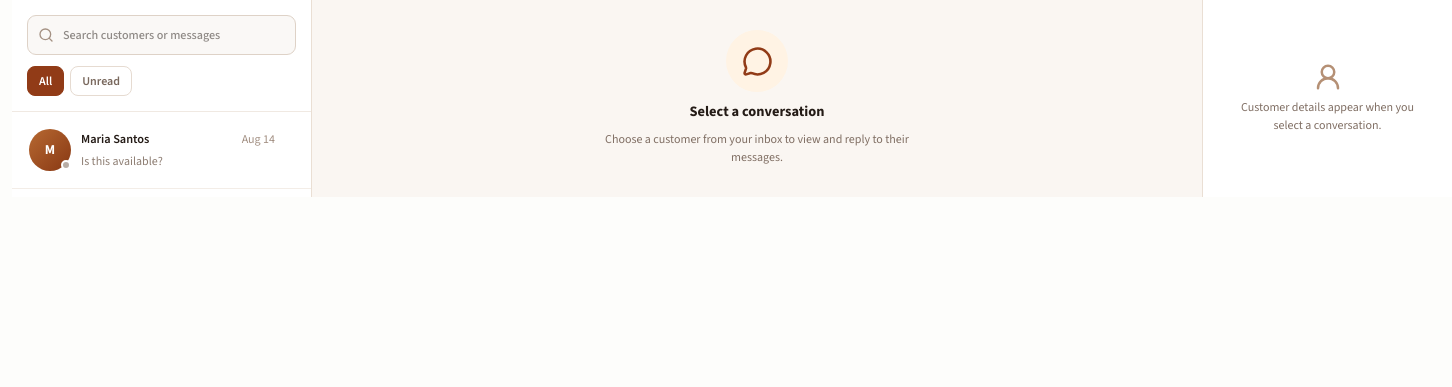
SellerMessages buyer identity › refreshes a renamed buyer through Broadcast and keeps the conversation open
This screenshot has width=1452, height=387.
Click the button "M Maria Santos Aug 14 Is this available?" at (162, 150), box [12,112,311,188]
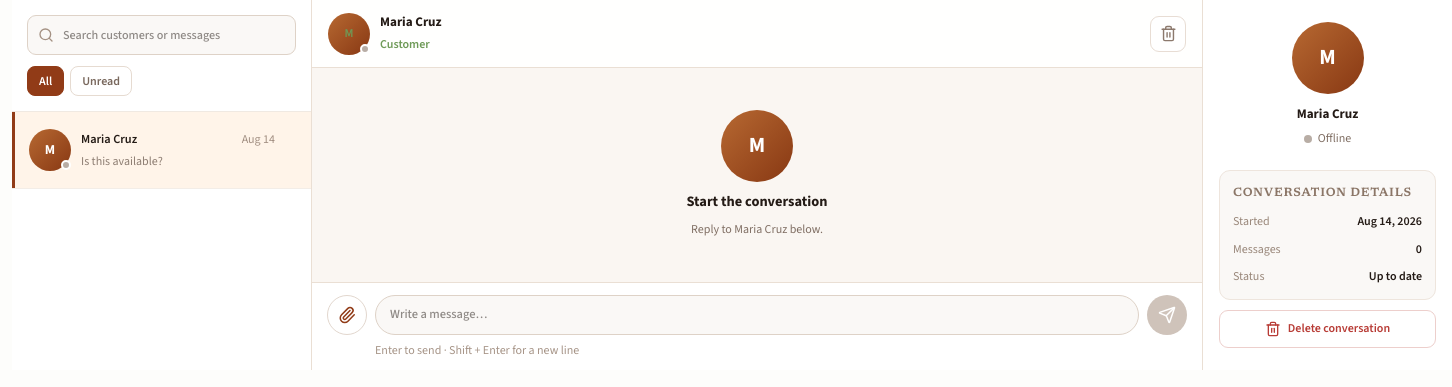
Check: the button named "Delete this conversation" is shown, box [1150,16,1186,52]
